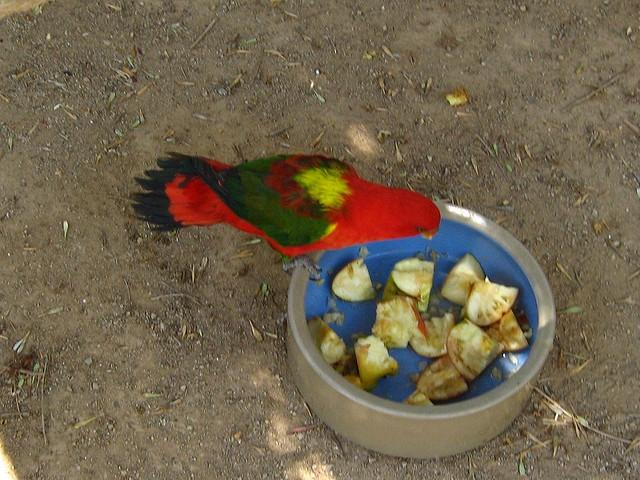apple: (447, 319, 505, 382), (372, 296, 429, 350), (382, 257, 435, 312), (440, 251, 490, 307), (354, 334, 399, 391), (464, 282, 520, 326), (417, 354, 468, 402), (331, 256, 378, 304), (408, 313, 456, 359), (307, 316, 347, 366), (331, 348, 364, 390), (499, 308, 529, 352), (391, 270, 422, 300), (402, 388, 434, 406), (445, 88, 470, 108)
